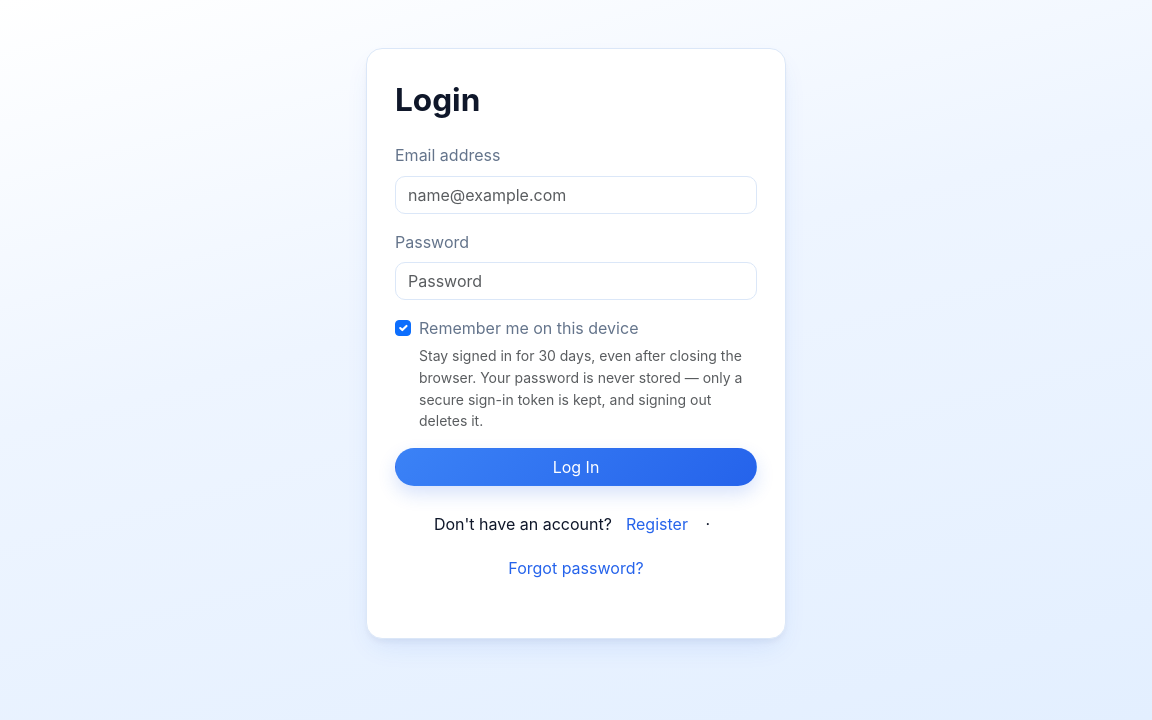
Test: Login Component › shows the server error message when login fails
Step 1. Type "a@b.co" into the field labelled "Email address" → (576, 195), box top-left (395, 176), bottom-right (757, 214)
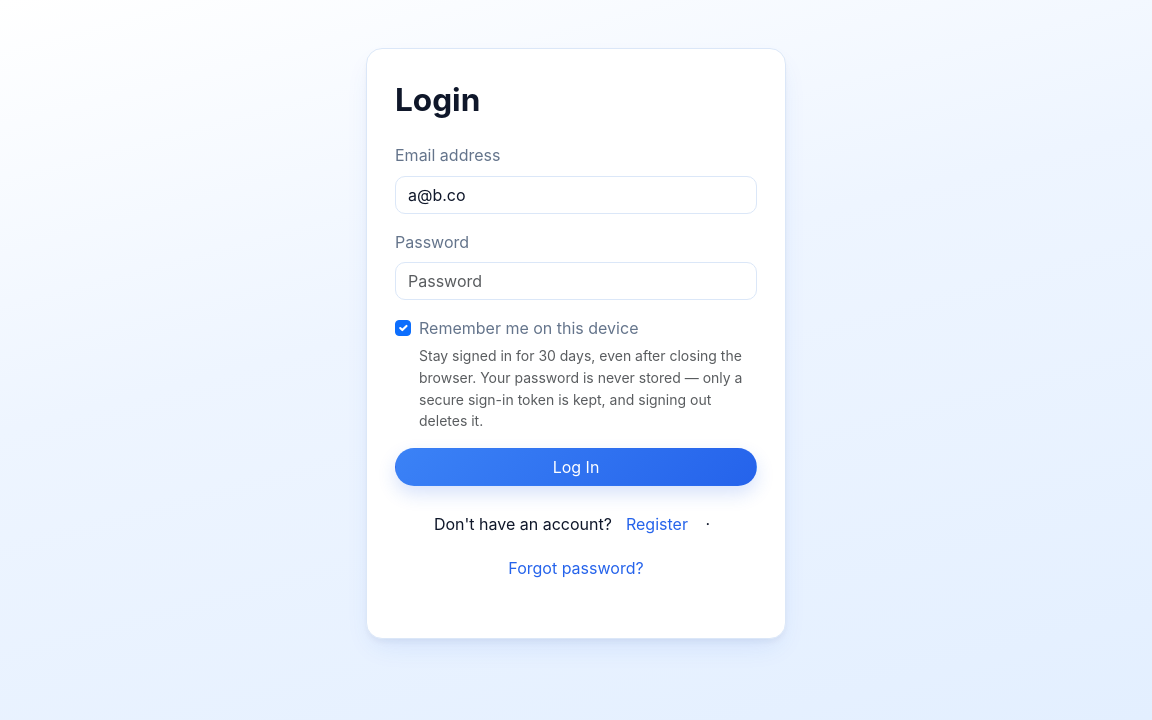
Step 2. Type "nope" into the password field labelled "Password" → (576, 282), box top-left (395, 262), bottom-right (757, 300)
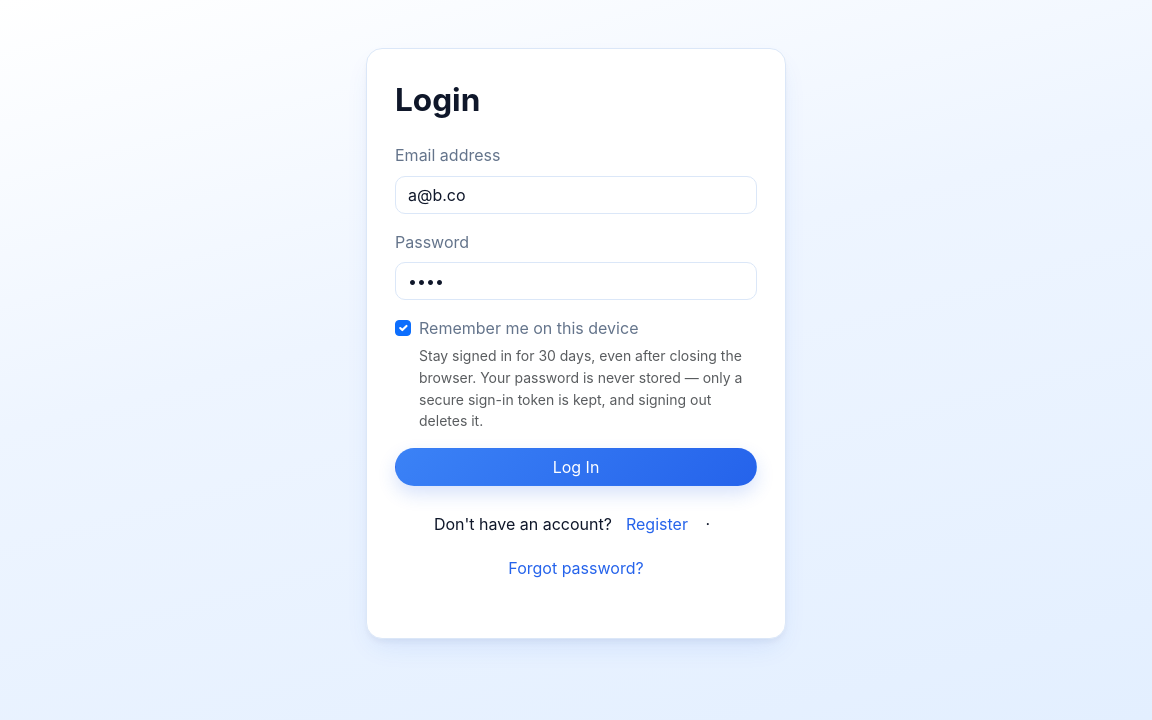
Step 3. Click the button "Log In" → click(576, 467), box top-left (395, 448), bottom-right (757, 486)
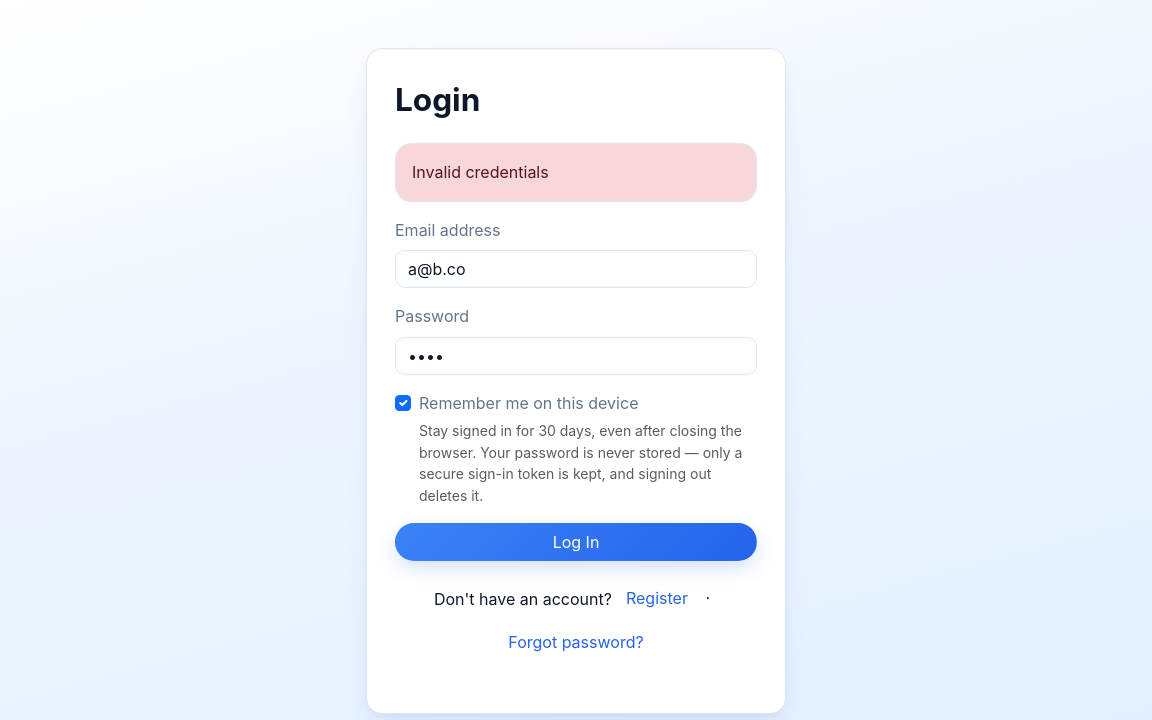
Now the text "Invalid credentials" is shown, box top-left (395, 143), bottom-right (757, 202)
